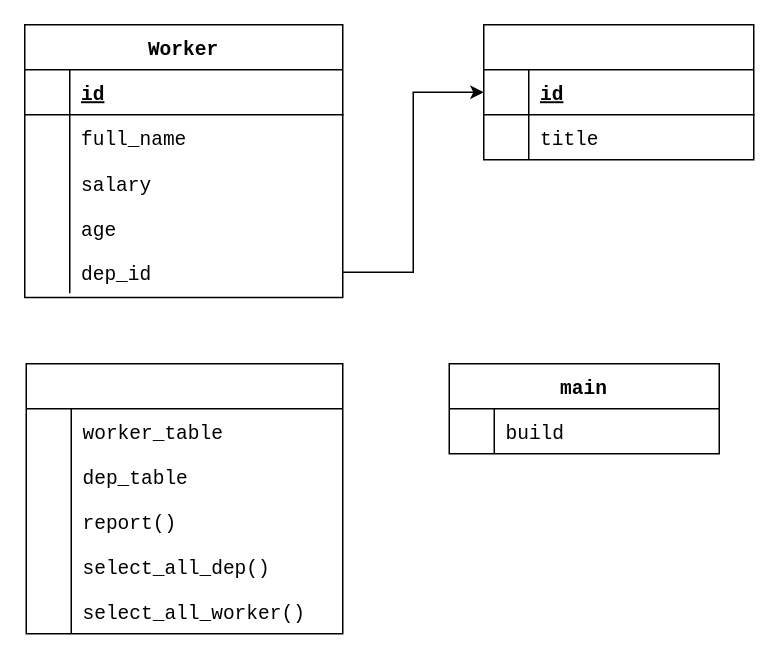
Some shapes in this 779 by 659 pixel diagram are drawn without their labels. The box of each missing label's shape, as (x1, y1, x2, y2) in pixels:
DataBase: (25, 362, 343, 634)
Department: (482, 23, 754, 160)
